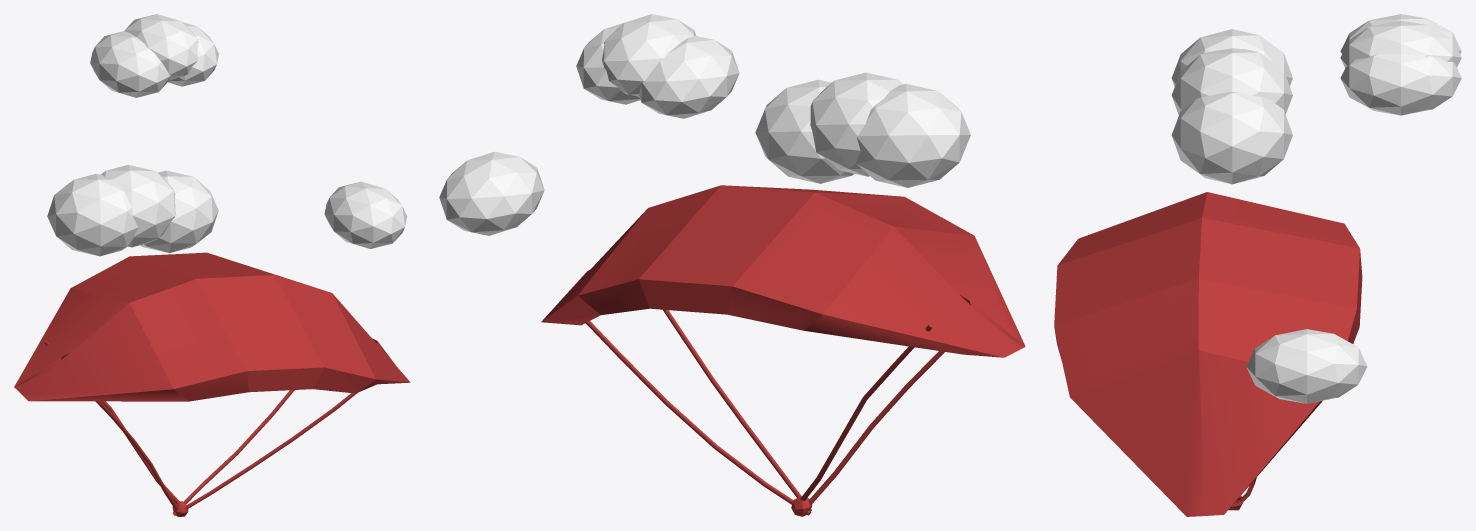
The picture shows the model from 3 angles, left to right: view 1: azimuth 30°, elevation 25°; view 2: azimuth 150°, elevation 25°; view 3: azimuth 270°, elevation 25°; orthographic projection. The views are drawn at different scales.
Parts seen in each view (by area): view 1: Tube001; view 2: Tube001; view 3: Tube001.
Boxes of the visible parts, left/top/right/bottom form: Tube001: left=14, top=14, right=410, bottom=516; Tube001: left=439, top=14, right=1025, bottom=516; Tube001: left=1054, top=14, right=1461, bottom=516.
Bounding box in the file's own units: 69.22 × 69.22 × 49.71.
